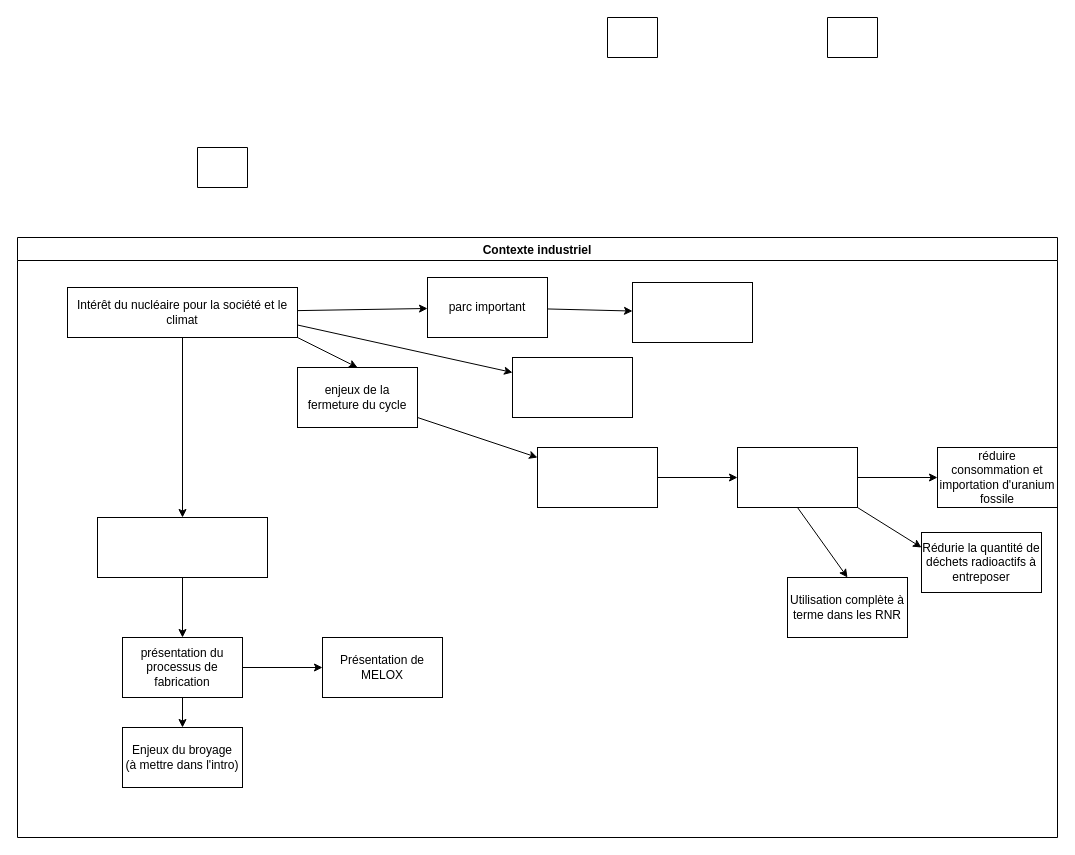
This 1075x855 diagram has some shape labels left out. The centre of each missing label's shape, as x and y in pixels:
enjeux du MOX voir giraud: (x=797, y=477)
Faible émission par kWh: (x=692, y=312)
gestion des déchets: (x=597, y=477)
objectif 2° accord de Paris: (x=572, y=387)
Présentation du combustible: (x=182, y=547)
